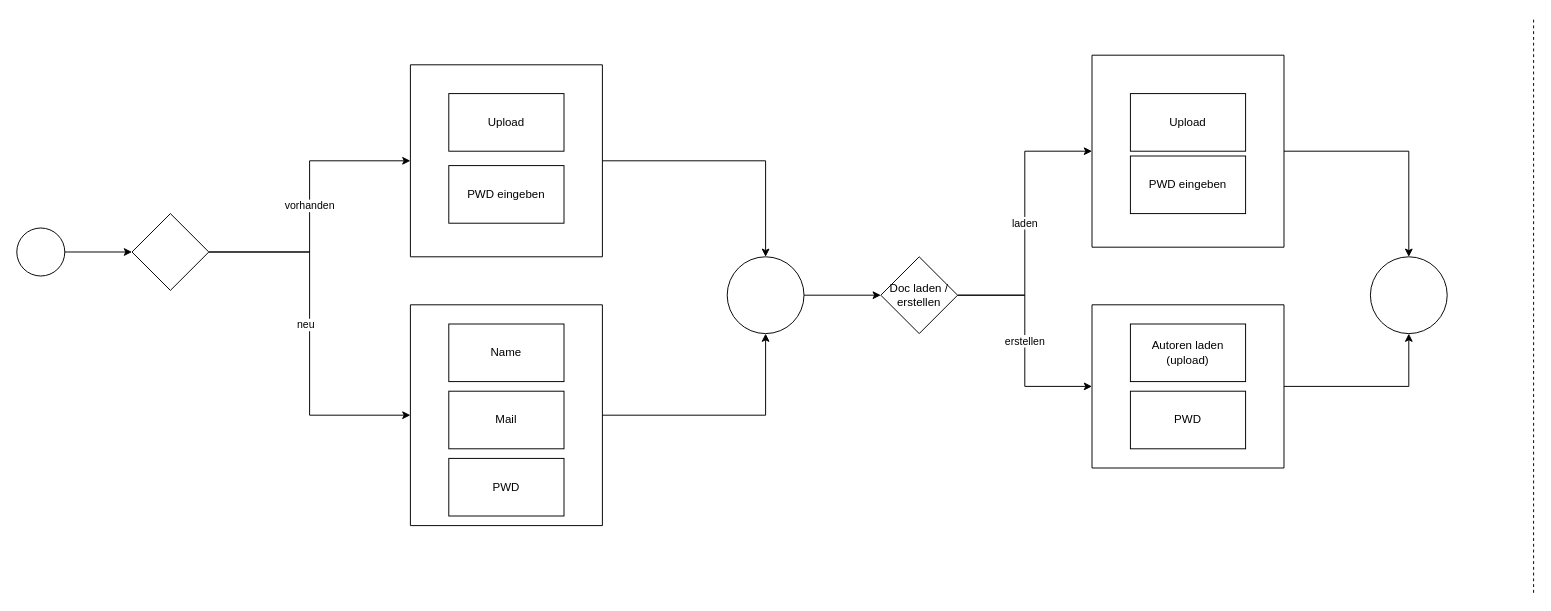
The diagram is 1551 pixels wide and 611 high, and some of its shapes have lost their labels. The box of each missing label's shape, as (x1, y1, x2, y2) in pixels:
Doc geladen: (1369, 256, 1447, 334)
Identity ist geladen: (726, 256, 804, 334)
Identity laden / erstellen: (131, 213, 209, 290)
